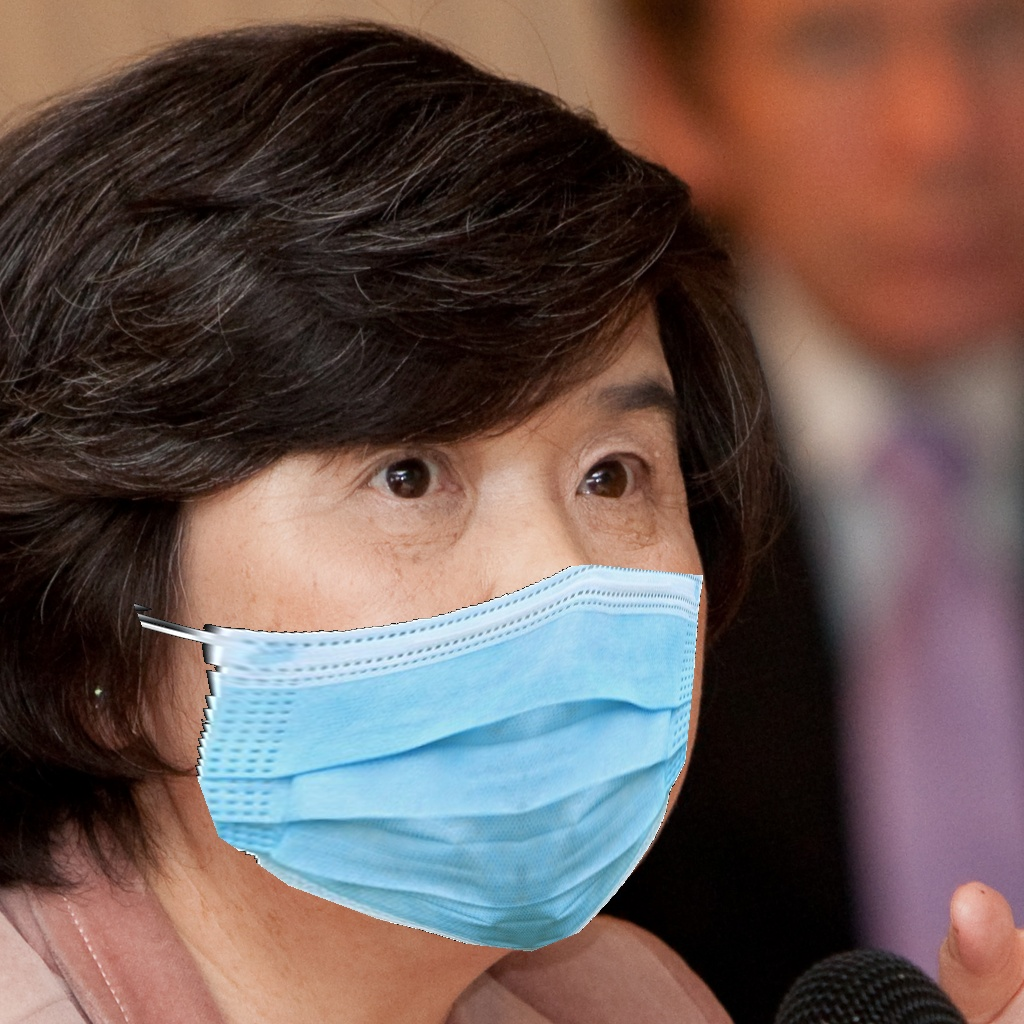Mask: (131, 382, 724, 953)
